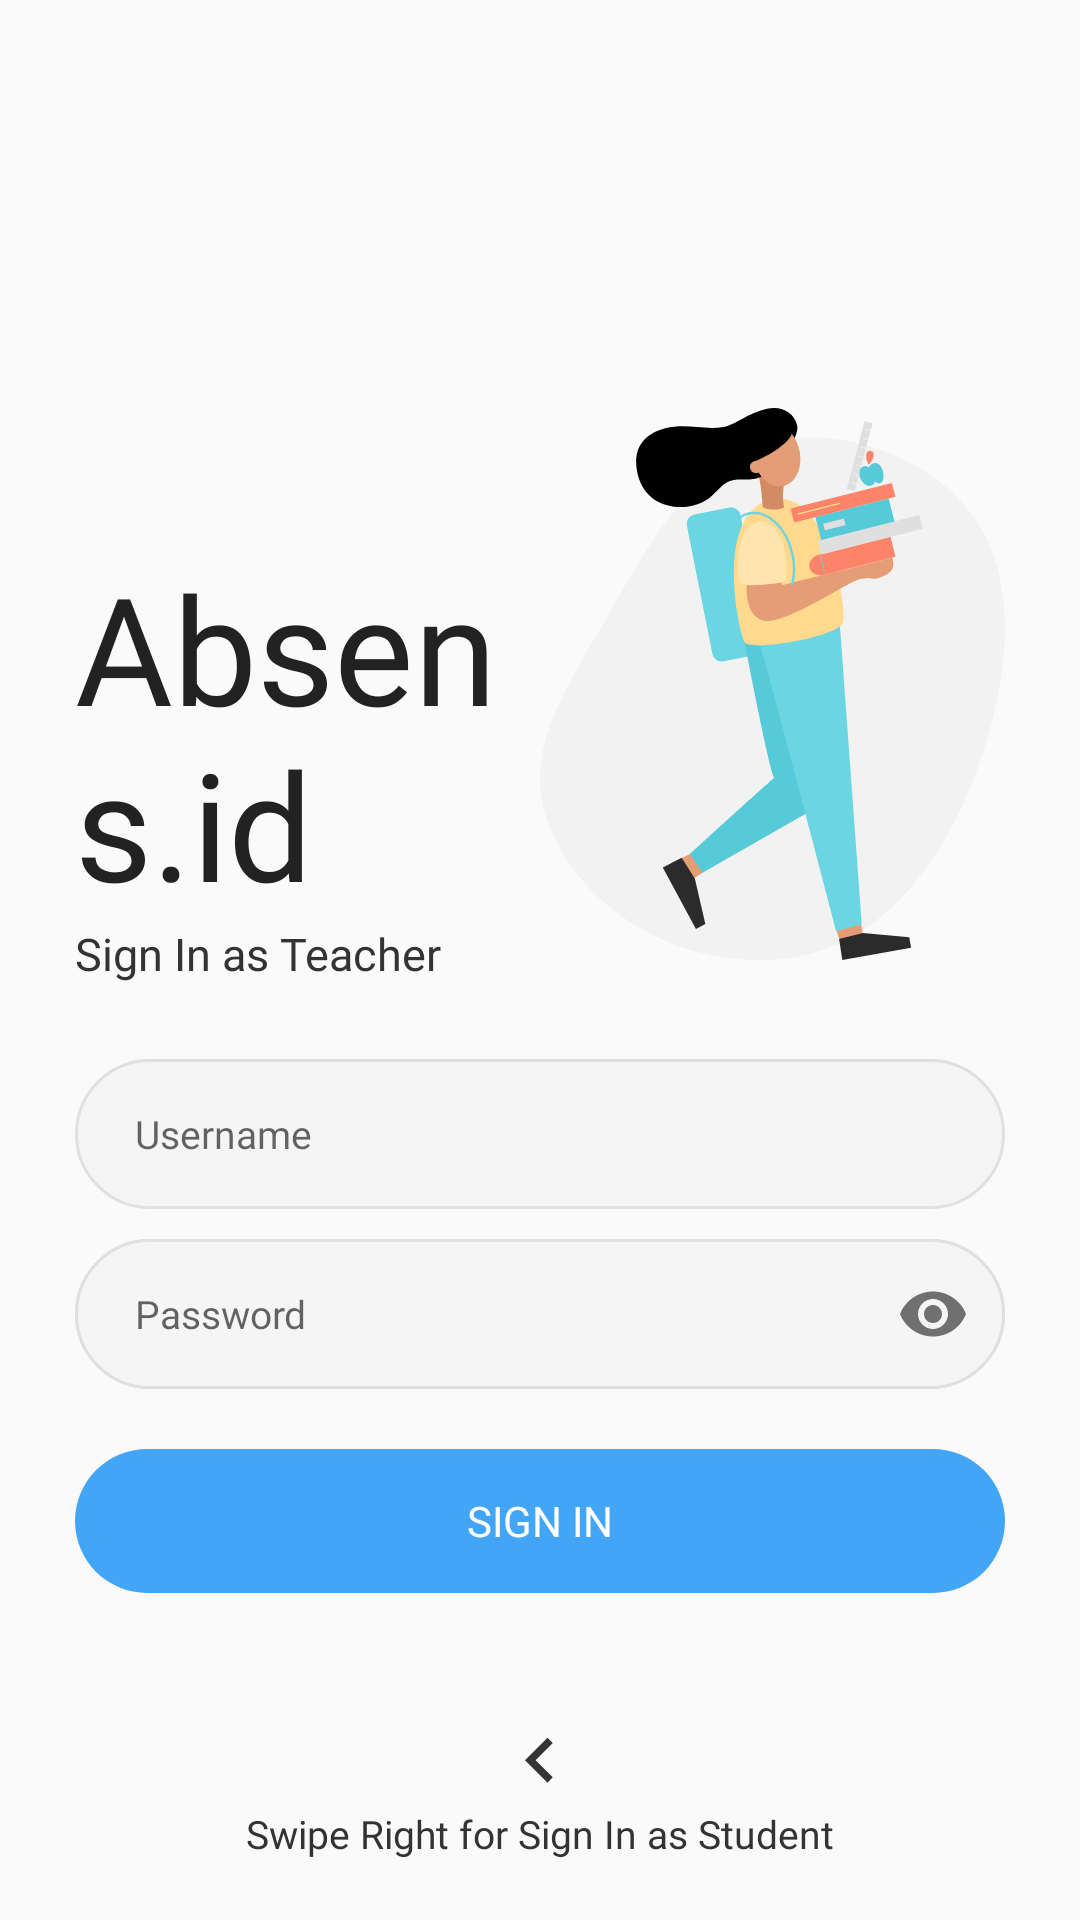

Named icons in this screenshot (1080*1920) and their bounding boxes, (x1, y1, x2, y2):
arrow left: (525, 1738, 553, 1783)
